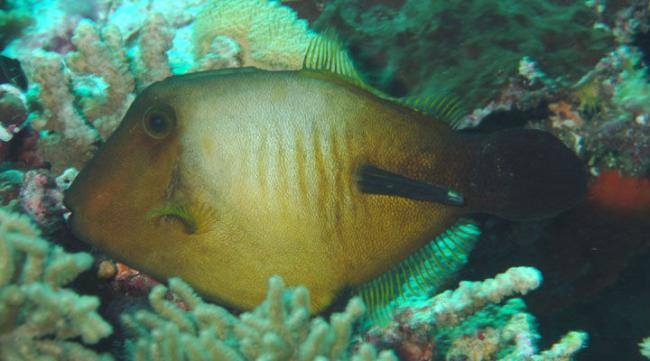fish: (62, 67, 589, 317)
